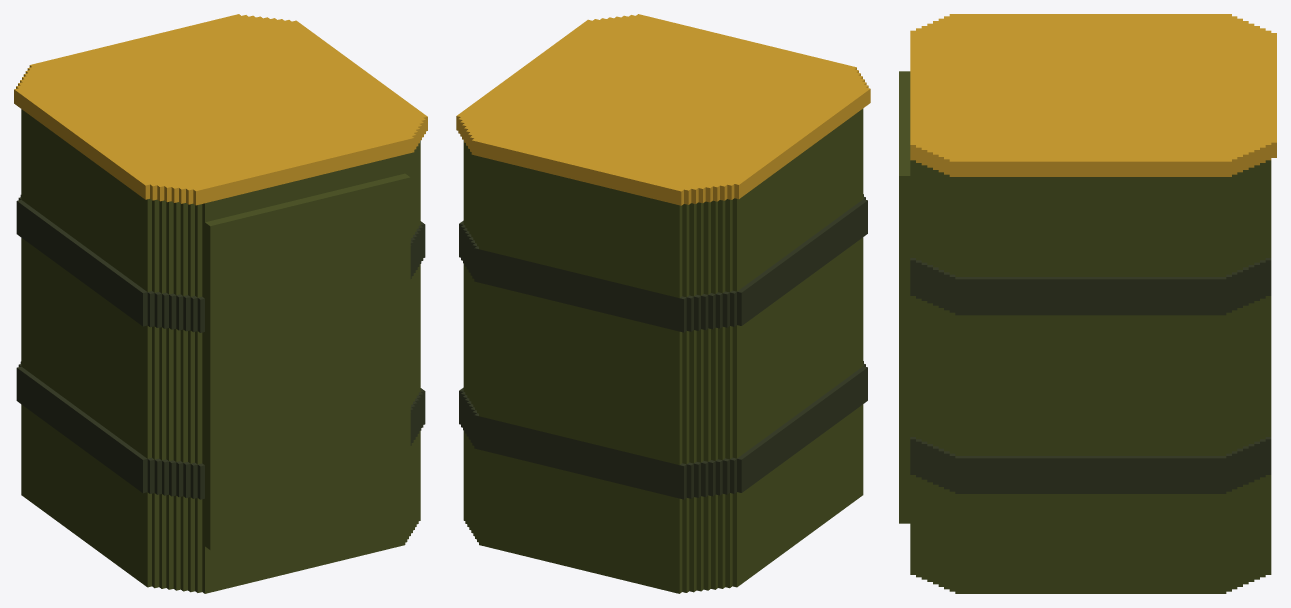
The model's file is legguard_trooper_worn_thigh.glb.
The picture shows the model from 3 angles, left to right: view 1: azimuth 30°, elevation 25°; view 2: azimuth 150°, elevation 25°; view 3: azimuth 270°, elevation 25°; orthographic projection. The views are drawn at different scales.
Visible parts, largest first — view 1: legguard_trooper_worn_thigh:compound; view 2: legguard_trooper_worn_thigh:compound; view 3: legguard_trooper_worn_thigh:compound.
Part boxes in pixels (x1=…): legguard_trooper_worn_thigh:compound: x1=14, y1=14, x2=427, y2=593; legguard_trooper_worn_thigh:compound: x1=456, y1=14, x2=870, y2=593; legguard_trooper_worn_thigh:compound: x1=899, y1=14, x2=1276, y2=593.
Size of the model in its own units: 0.248 by 0.34 by 0.268.
